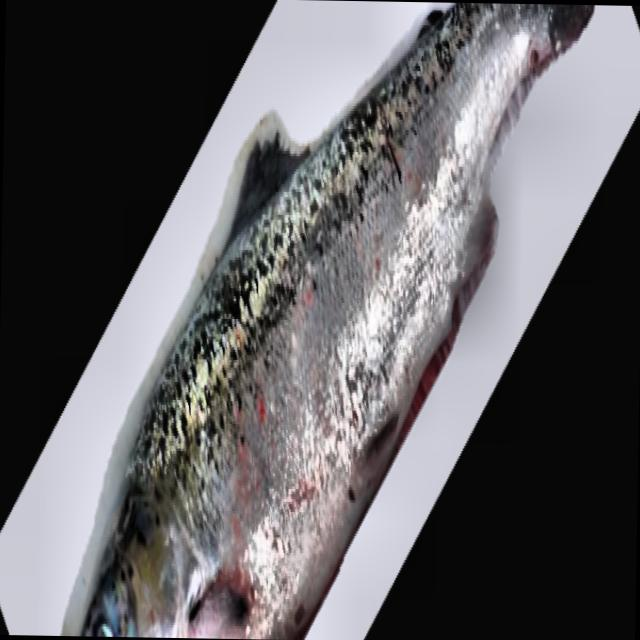mild_red: (202, 187, 496, 637), (284, 279, 318, 371), (512, 47, 558, 101), (372, 247, 390, 303), (401, 168, 429, 204)
